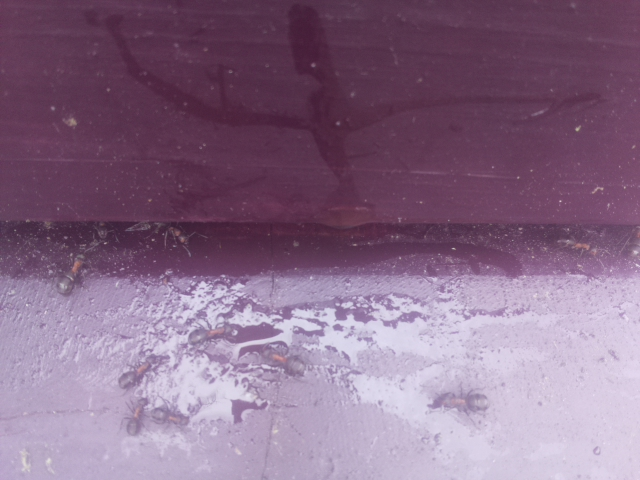ant: (256, 339, 313, 384), (51, 243, 90, 302), (420, 388, 490, 419), (180, 322, 245, 348), (113, 355, 156, 394), (121, 393, 152, 443)
